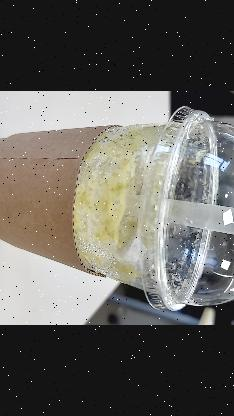Others: (0, 111, 234, 315), (134, 104, 234, 310), (136, 199, 234, 248)
